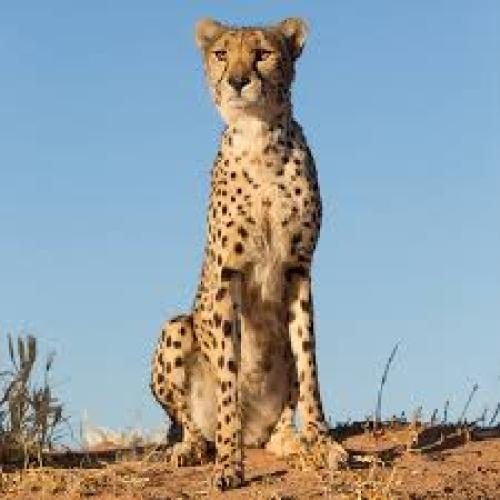cheetah-endangered: (147, 7, 361, 500)
